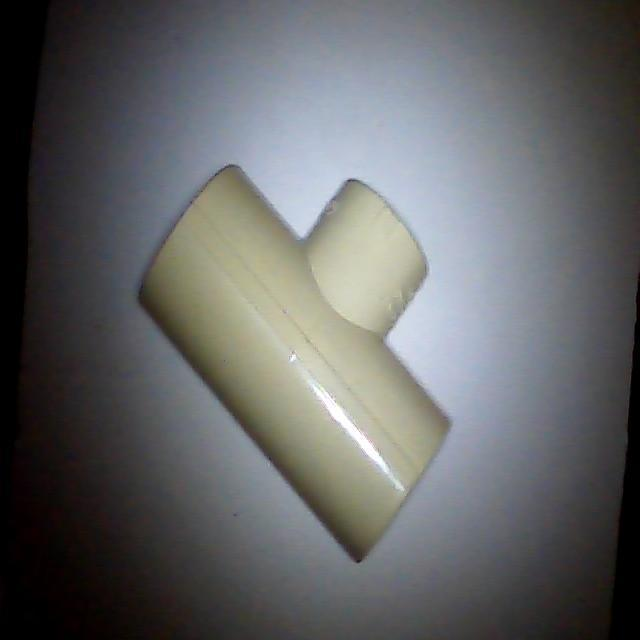T Joint: (138, 167, 451, 565)
